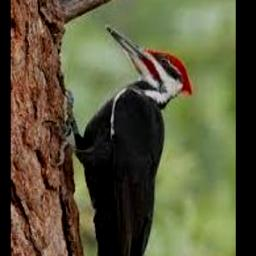Woodpecker: (48, 25, 193, 256)
